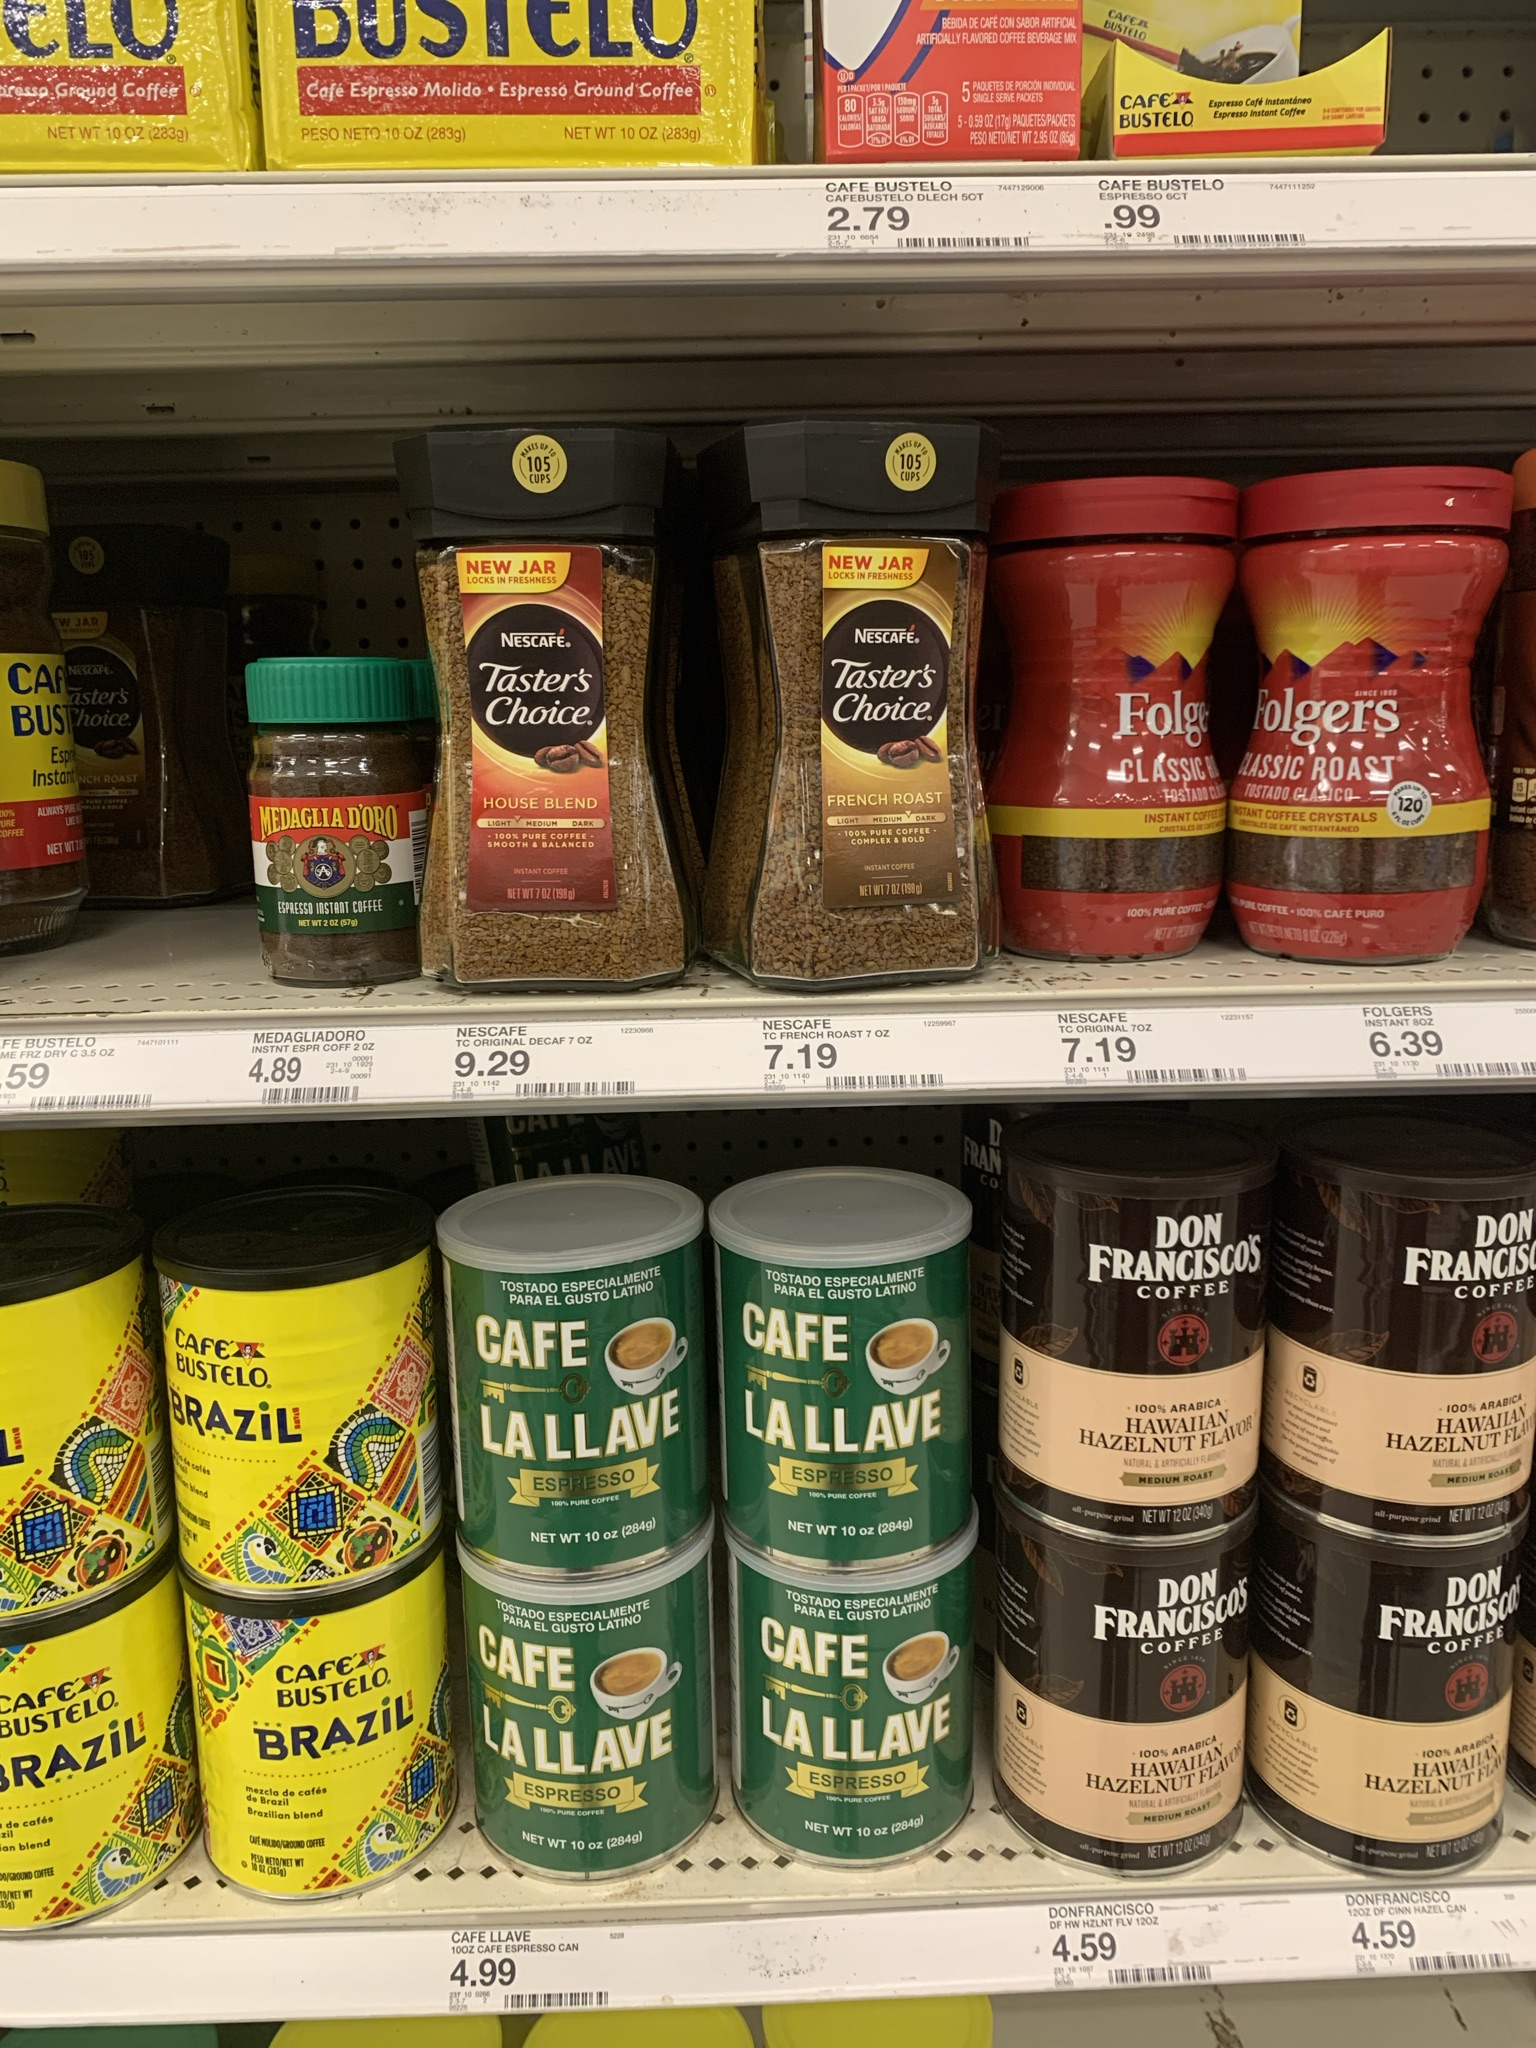can: (166, 1224, 426, 1576), (463, 1197, 705, 1566), (1013, 1143, 1258, 1501), (1305, 1142, 1523, 1522), (737, 1216, 958, 1559), (1037, 1534, 1241, 1861), (1294, 1532, 1513, 1834), (207, 1600, 437, 1866), (737, 1574, 965, 1840), (486, 1579, 700, 1850), (2, 1627, 184, 1874)
